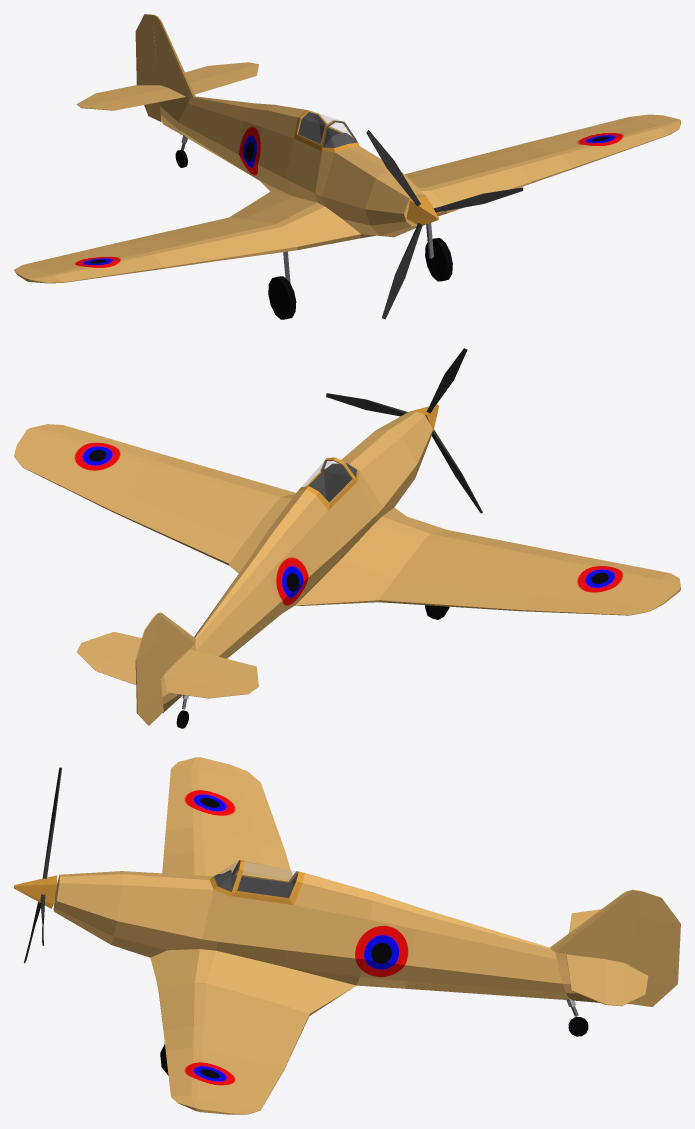
3 views of the same model, one above another, from view 1: azimuth 30°, elevation 25°; view 2: azimuth 150°, elevation 25°; view 3: azimuth 270°, elevation 25° (orthographic). The views are drawn at different scales.
Visible parts, largest first — view 1: Body.003, propeller.003, Rudder.003, Landing gear_FR.003, Landing gear_FL.003, Circle.009, L_ailerone.003, R_ailerone.003; view 2: Body.003, L_ailerone.003, R_ailerone.003, Rudder.003, propeller.003, Circle.009, R_elevator.003, L_elevator.003; view 3: Body.003, Rudder.003, R_ailerone.003, Circle.009, L_ailerone.003, propeller.003, L_elevator.003.
Part boxes in pixels (x1=…): Body.003: x1=14, y1=14, x2=680, y2=283; propeller.003: x1=366, y1=130, x2=523, y2=319; Rudder.003: x1=135, y1=14, x2=162, y2=122; Landing gear_FR.003: x1=268, y1=251, x2=296, y2=319; Landing gear_FL.003: x1=425, y1=223, x2=452, y2=281; Circle.009: x1=296, y1=110, x2=353, y2=146; L_ailerone.003: x1=473, y1=117, x2=638, y2=158; R_ailerone.003: x1=23, y1=235, x2=162, y2=267; Body.003: x1=14, y1=411, x2=680, y2=712; L_ailerone.003: x1=22, y1=456, x2=162, y2=528; R_ailerone.003: x1=473, y1=589, x2=638, y2=615; Rudder.003: x1=135, y1=617, x2=163, y2=725; propeller.003: x1=326, y1=348, x2=482, y2=513; Circle.009: x1=300, y1=459, x2=354, y2=504; R_elevator.003: x1=163, y1=675, x2=247, y2=698; L_elevator.003: x1=77, y1=652, x2=135, y2=684; Body.003: x1=53, y1=757, x2=642, y2=1114; Rudder.003: x1=628, y1=891, x2=680, y2=1006; R_ailerone.003: x1=240, y1=778, x2=292, y2=875; Circle.009: x1=234, y1=860, x2=300, y2=900; L_ailerone.003: x1=240, y1=1042, x2=292, y2=1109; propeller.003: x1=14, y1=767, x2=61, y2=963; L_elevator.003: x1=621, y1=962, x2=648, y2=1005.
Size of the model in its own units: 1627 by 526 by 1302.
